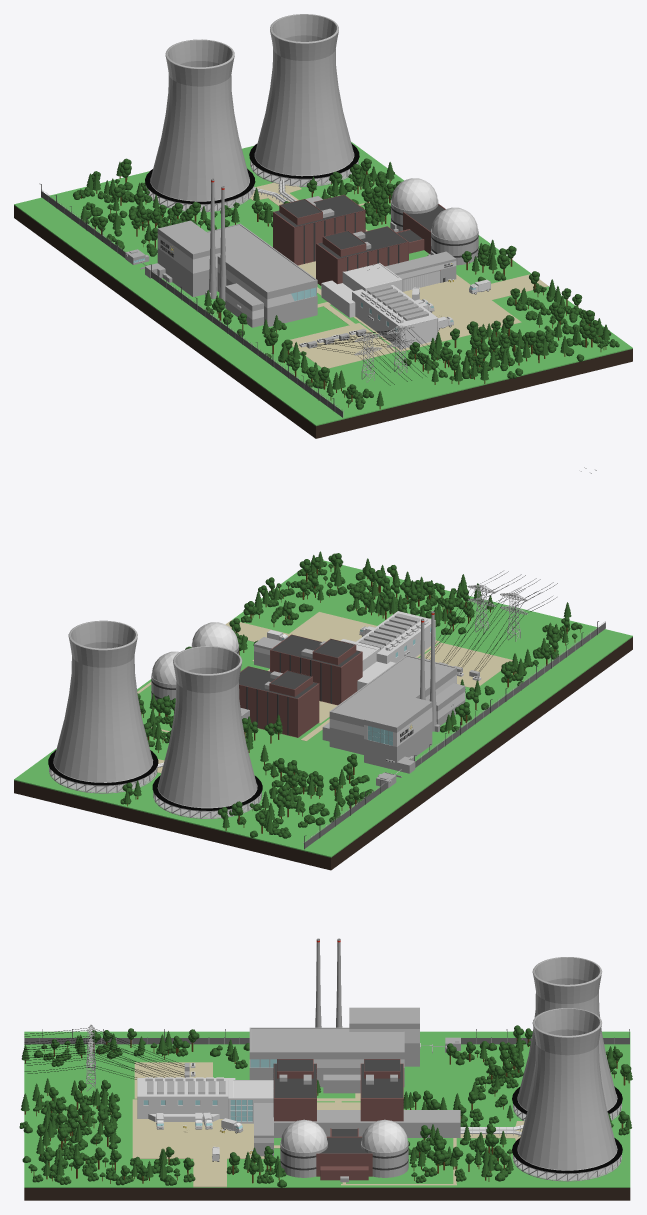
The model's file is nuclear_powerplant.glb.
3 renders of one model, top to bottom at view 1: azimuth 30°, elevation 25°; view 2: azimuth 150°, elevation 25°; view 3: azimuth 270°, elevation 25°, orthographic.
Parts seen in each view (by area): view 1: Cube, Cylinder.021, Cylinder.039, qg, Cube.055, turbo-alternateur, object 591, object 568, object 502, object 595, Cube.049, Cube.008 (+5 smaller); view 2: Cube, Cylinder.021, Cylinder.039, qg, object 591, Cube.055, object 568, turbo-alternateur, Cube.049, BezierCurve.001, object 595, object 502 (+3 smaller); view 3: Cube, Cylinder.021, qg, Cube.055, turbo-alternateur, Cylinder.039, object 591, object 568, Cube.040, Cube.041, object 595, object 502 (+7 smaller).
Part boxes in pixels (x1,y1,x2,y2): Cube: (14,142,632,438); Cylinder.021: (249,14,359,185); Cylinder.039: (145,39,255,210); qg: (157,220,317,327); Cube.055: (250,182,548,368); turbo-alternateur: (321,263,438,349); object 591: (273,194,365,265); object 568: (316,226,408,285); object 502: (427,207,478,265); object 595: (390,178,438,232); Cube.049: (151,271,343,417); Cube.008: (385,251,456,291); Cube: (14,560,632,870); Cylinder.021: (48,620,158,792); Cylinder.039: (152,646,262,817); qg: (322,655,465,770); object 591: (239,666,319,737); Cube.055: (137,612,512,773); object 568: (270,634,362,705); turbo-alternateur: (340,611,435,690); Cube.049: (415,621,605,767); BezierCurve.001: (426,571,557,671); object 595: (151,651,179,709); object 502: (191,622,238,654); Cube: (24,1031,630,1200); Cylinder.021: (512,1008,622,1180); qg: (249,1007,419,1093); Cube.055: (132,1062,524,1187); turbo-alternateur: (137,1077,273,1123); Cylinder.039: (512,957,622,1119); object 591: (360,1059,403,1121); object 568: (273,1059,316,1121); Cube.040: (274,1110,460,1137); Cube.041: (316,1128,372,1182); object 595: (361,1119,408,1177); object 502: (280,1119,327,1177).
Size of the model in its own units: 48.89 by 24.2 by 81.7.
